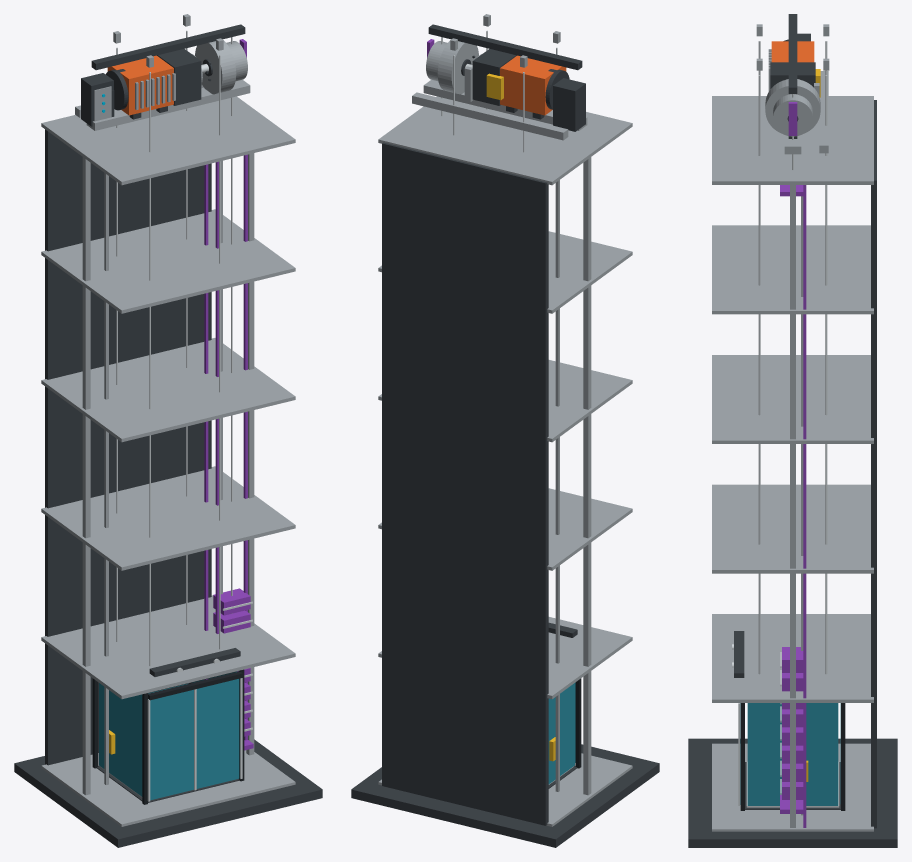
File: The Main elevator for the dig twin .glb
3 views of the same model, side by side, from view 1: azimuth 30°, elevation 25°; view 2: azimuth 150°, elevation 25°; view 3: azimuth 270°, elevation 25° (orthographic).
Visible parts, largest first — view 1: SHAFT_BACK_STRUCTURE, SHAFT_FLOOR_BEAM_2, SHAFT_FLOOR_BEAM_3, SHAFT_FLOOR_BEAM_4, SHAFT_FLOOR_BEAM_1, SHAFT_FLOOR_BEAM_5, ELEVATOR_BASE_PLATFORM, SHAFT_FLOOR_BEAM_0, SHAFT_LEFT_COLUMN, DOOR_LEFT, DOOR_RIGHT, CABIN_LEFT_GLASS (+22 smaller); view 2: SHAFT_BACK_STRUCTURE, SHAFT_FLOOR_BEAM_5, ELEVATOR_BASE_PLATFORM, SHAFT_LEFT_COLUMN, SHAFT_FLOOR_BEAM_2, SHAFT_FLOOR_BEAM_4, SHAFT_FLOOR_BEAM_3, SHAFT_FLOOR_BEAM_1, SHAFT_FLOOR_BEAM_0, CABIN_GUIDE_RAIL_1, TRACTION_MOTOR, MACHINE_REAR_BEAM (+7 smaller); view 3: SHAFT_FLOOR_BEAM_4, SHAFT_FLOOR_BEAM_2, SHAFT_FLOOR_BEAM_3, SHAFT_FLOOR_BEAM_1, SHAFT_FLOOR_BEAM_5, ELEVATOR_BASE_PLATFORM, SHAFT_FLOOR_BEAM_0, CABIN_RIGHT_GLASS, SHAFT_BACK_STRUCTURE, SHAFT_RIGHT_COLUMN, COUNTERWEIGHT_GUIDE_RAIL.001, CAR_SUSPENSION_ROPE_2 (+11 smaller).
Boxes of the visible parts, left/top/right/bottom form: SHAFT_BACK_STRUCTURE: left=45, top=129, right=211, bottom=765; SHAFT_FLOOR_BEAM_2: left=41, top=466, right=295, bottom=570; SHAFT_FLOOR_BEAM_3: left=41, top=338, right=295, bottom=442; SHAFT_FLOOR_BEAM_4: left=41, top=209, right=295, bottom=313; SHAFT_FLOOR_BEAM_1: left=41, top=595, right=295, bottom=699; SHAFT_FLOOR_BEAM_5: left=41, top=87, right=295, bottom=185; ELEVATOR_BASE_PLATFORM: left=14, top=739, right=322, bottom=847; SHAFT_FLOOR_BEAM_0: left=41, top=750, right=295, bottom=826; SHAFT_LEFT_COLUMN: left=82, top=157, right=90, bottom=795; DOOR_LEFT: left=150, top=689, right=193, bottom=800; DOOR_RIGHT: left=196, top=679, right=239, bottom=788; CABIN_LEFT_GLASS: left=99, top=683, right=142, bottom=796; SHAFT_BACK_STRUCTURE: left=382, top=142, right=548, bottom=825; SHAFT_FLOOR_BEAM_5: left=378, top=96, right=632, bottom=185; ELEVATOR_BASE_PLATFORM: left=351, top=744, right=659, bottom=847; SHAFT_LEFT_COLUMN: left=583, top=157, right=591, bottom=795; SHAFT_FLOOR_BEAM_2: left=378, top=488, right=632, bottom=570; SHAFT_FLOOR_BEAM_4: left=378, top=231, right=632, bottom=313; SHAFT_FLOOR_BEAM_3: left=378, top=360, right=632, bottom=442; SHAFT_FLOOR_BEAM_1: left=378, top=617, right=632, bottom=699; SHAFT_FLOOR_BEAM_0: left=378, top=753, right=632, bottom=826; CABIN_GUIDE_RAIL_1: left=555, top=180, right=559, bottom=791; TRACTION_MOTOR: left=500, top=55, right=566, bottom=115; MACHINE_REAR_BEAM: left=412, top=92, right=568, bottom=140; SHAFT_FLOOR_BEAM_4: left=712, top=225, right=873, bottom=314; SHAFT_FLOOR_BEAM_2: left=712, top=484, right=873, bottom=573; SHAFT_FLOOR_BEAM_3: left=712, top=355, right=873, bottom=443; SHAFT_FLOOR_BEAM_1: left=712, top=614, right=873, bottom=702; SHAFT_FLOOR_BEAM_5: left=712, top=96, right=873, bottom=184; ELEVATOR_BASE_PLATFORM: left=688, top=738, right=897, bottom=847; SHAFT_FLOOR_BEAM_0: left=712, top=743, right=873, bottom=831; CABIN_RIGHT_GLASS: left=747, top=703, right=838, bottom=805; SHAFT_BACK_STRUCTURE: left=871, top=100, right=876, bottom=828; SHAFT_RIGHT_COLUMN: left=790, top=185, right=795, bottom=827; COUNTERWEIGHT_GUIDE_RAIL.001: left=803, top=185, right=806, bottom=827; CAR_SUSPENSION_ROPE_2: left=758, top=75, right=760, bottom=674.
Size of the model in its own units: 5 by 17.48 by 4.4.
